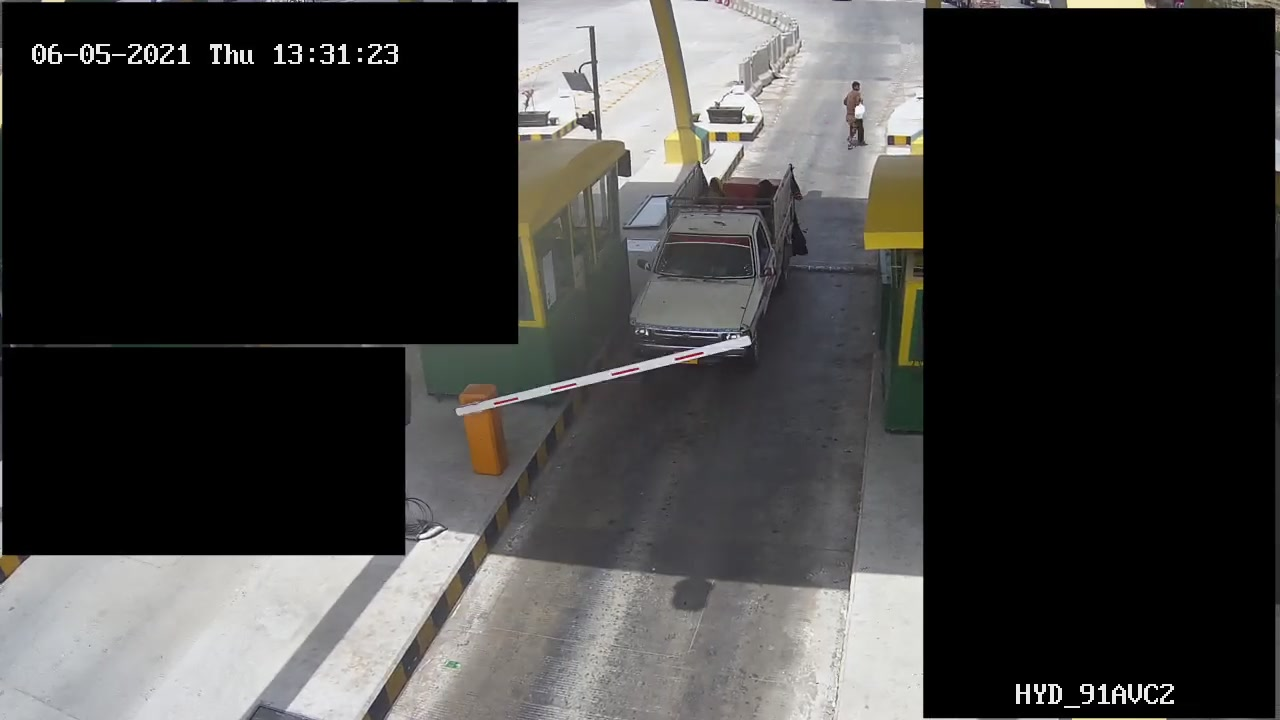F1: (632, 157, 807, 360)
